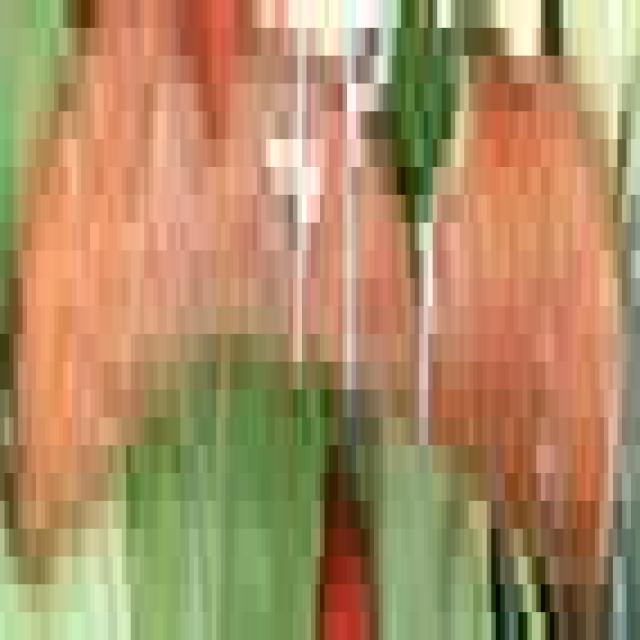food waste: (1, 0, 640, 612)
